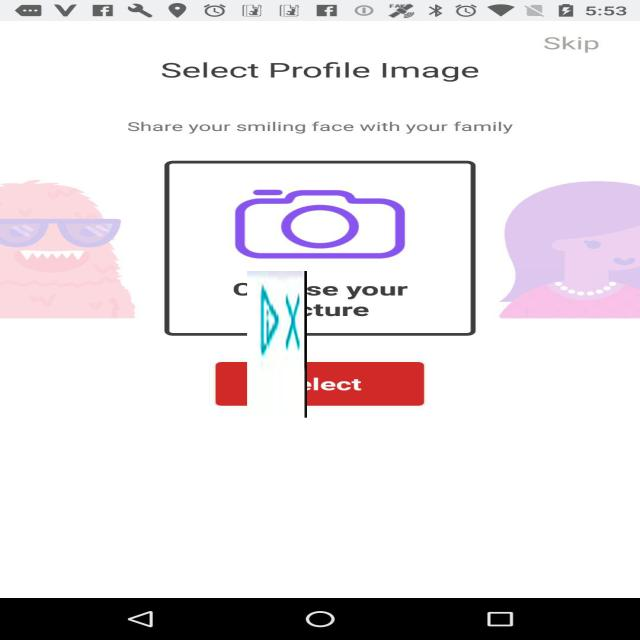sneaking: (247, 271, 307, 418)
